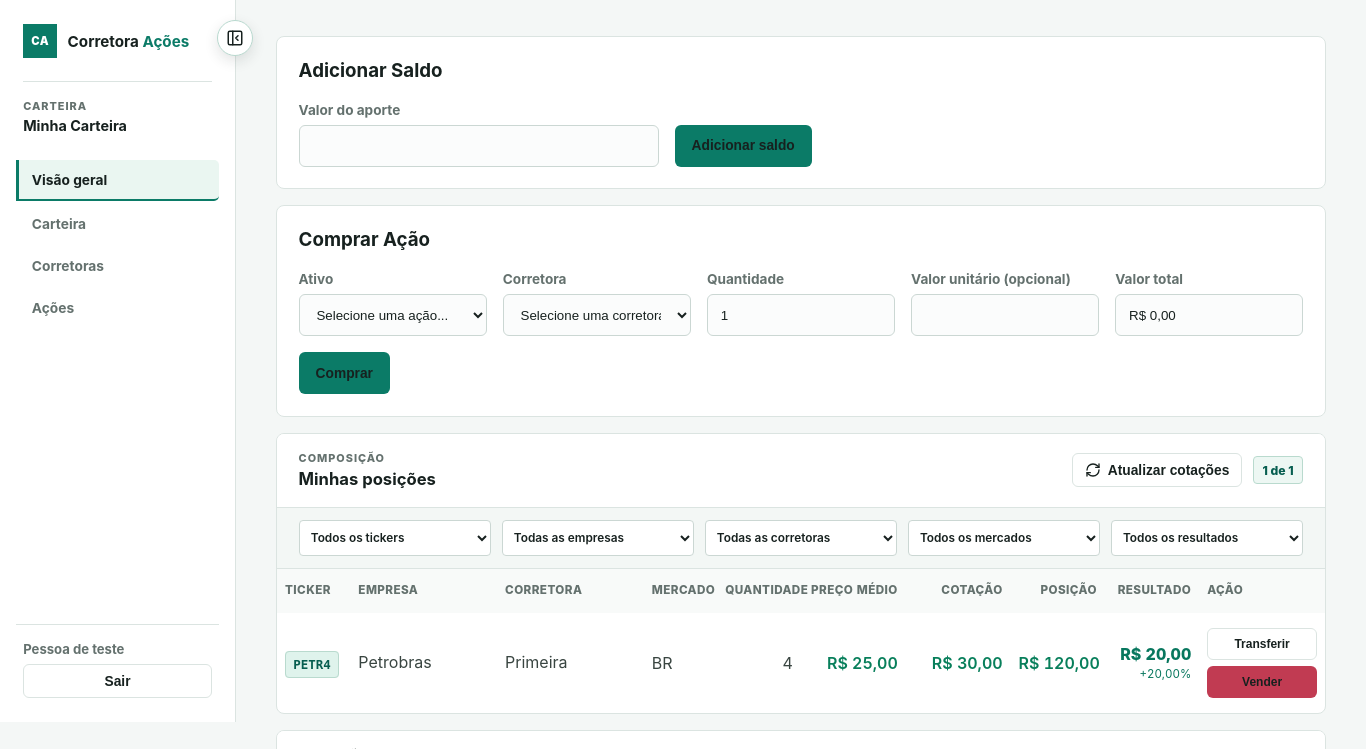
Test: operacoes da carteira › impede venda acima da quantidade disponivel
Expected: the cell "Petrobras" is shown, 350,613 -> 497,713
Click the button "Vender" at (1262, 682), box 1207,666 -> 1317,698
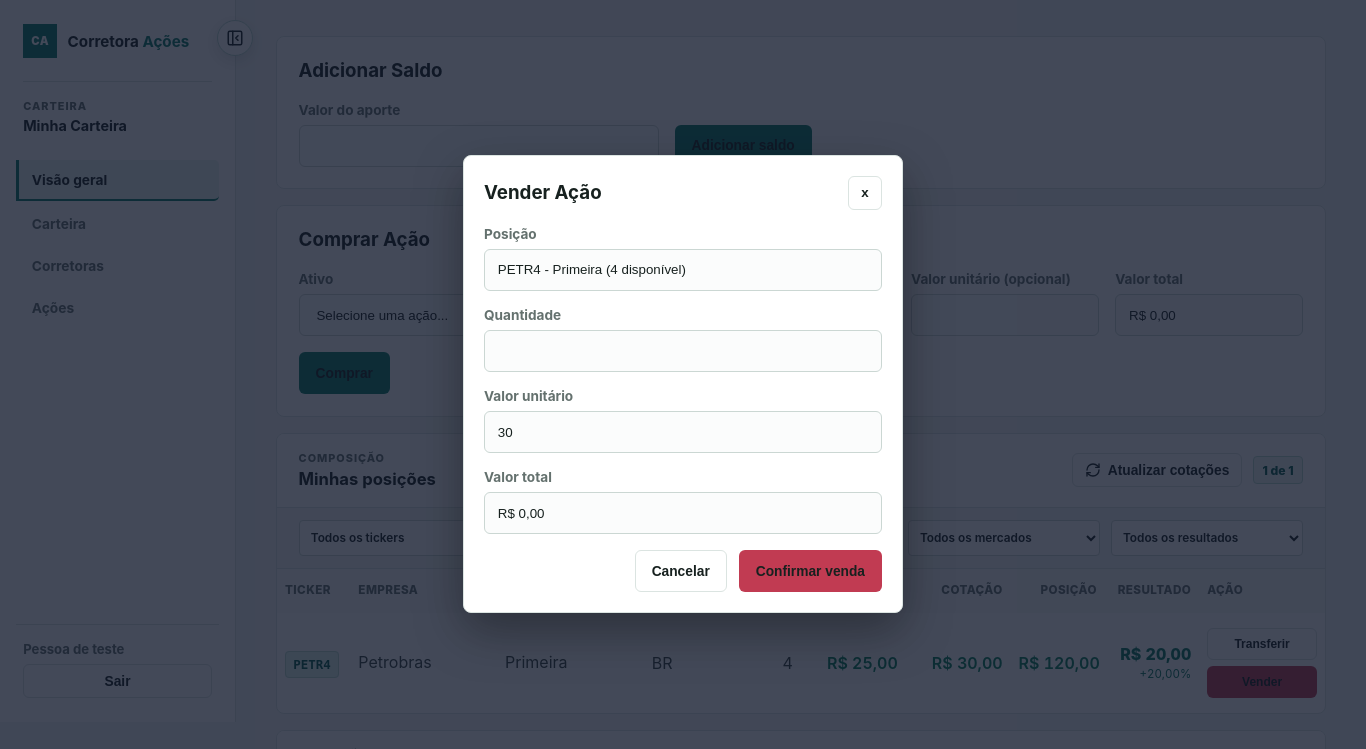
Type "5" into the 1st number field at (683, 351), box 484,330 -> 882,372
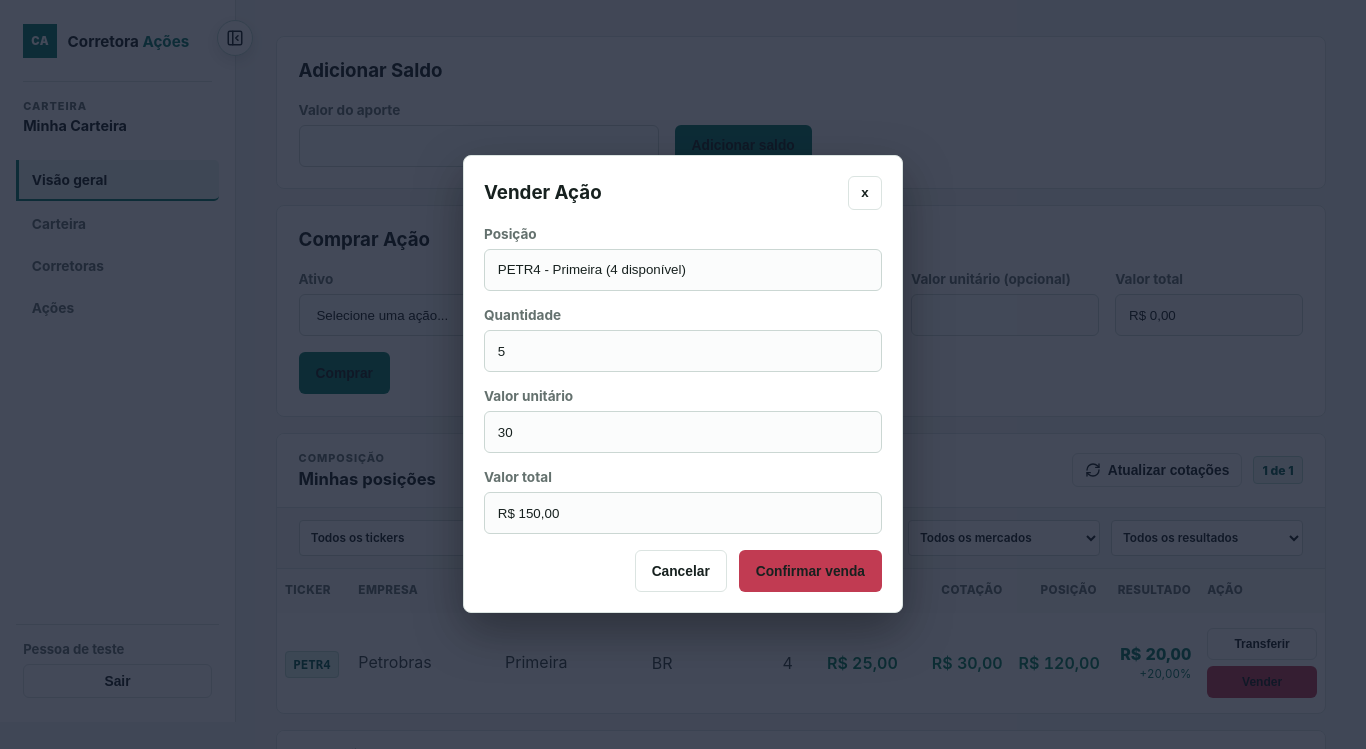
Submit the form "Confirmar venda", box 484,226 -> 882,592
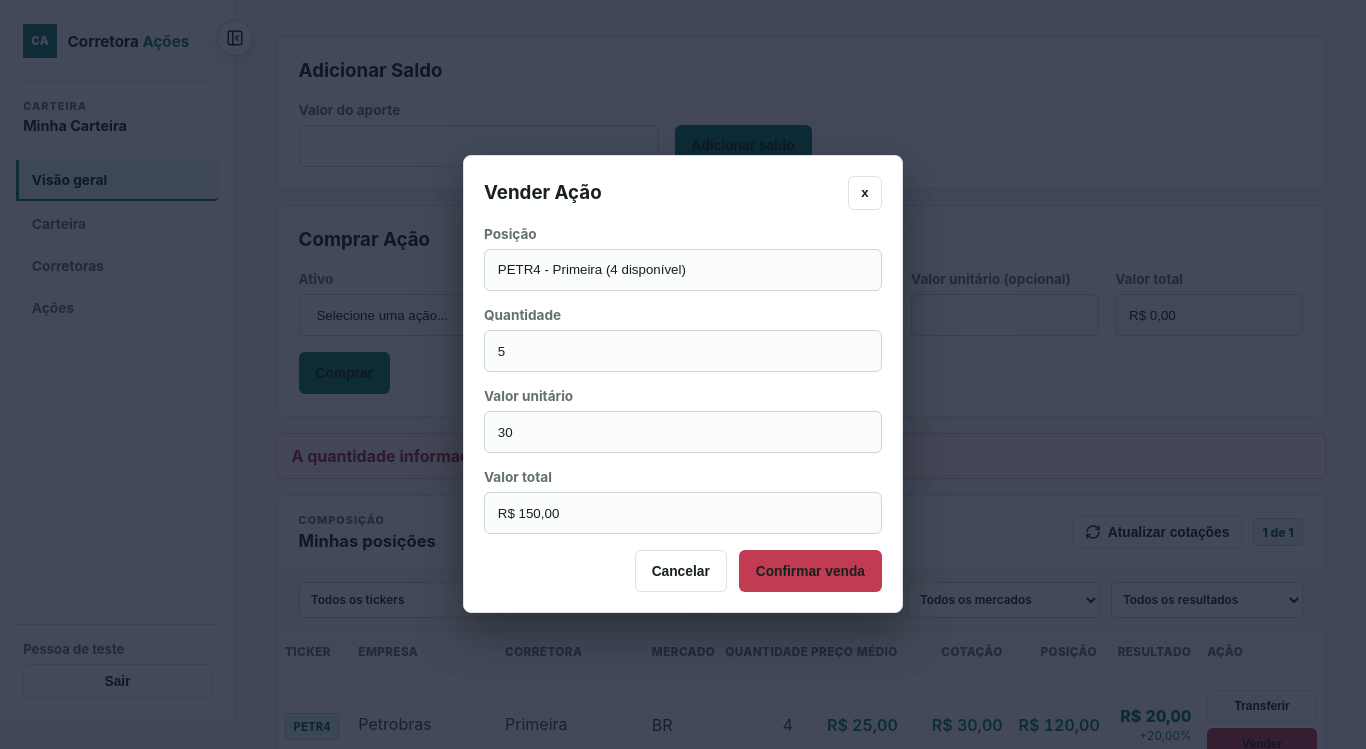
Result: the text "A quantidade informada é maior que a disponível na sua carteira." is shown at 276,433 -> 1326,479
